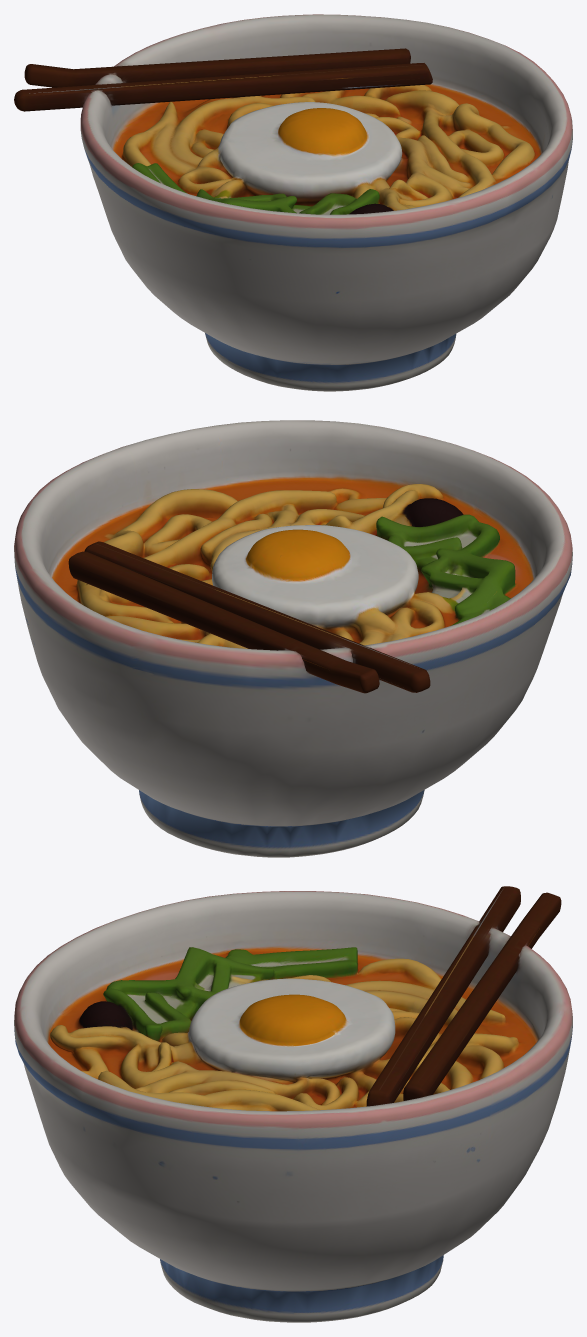
The model's file is ramen.glb.
3 renders of one model, top to bottom at view 1: azimuth 30°, elevation 25°; view 2: azimuth 150°, elevation 25°; view 3: azimuth 270°, elevation 25°, orthographic. The views are drawn at different scales.
Visible parts, largest first — view 1: tripo_node_f7bd5c36-b9ce-483d-ab95-0c008a3bf8da; view 2: tripo_node_f7bd5c36-b9ce-483d-ab95-0c008a3bf8da; view 3: tripo_node_f7bd5c36-b9ce-483d-ab95-0c008a3bf8da.
Boxes of the visible parts, x1,y1,x2,y2 form: tripo_node_f7bd5c36-b9ce-483d-ab95-0c008a3bf8da: (14,14,572,391); tripo_node_f7bd5c36-b9ce-483d-ab95-0c008a3bf8da: (14,420,572,857); tripo_node_f7bd5c36-b9ce-483d-ab95-0c008a3bf8da: (14,886,572,1322).
Size of the model in its own units: 0.9917 by 0.5356 by 0.9995.
Materials: 1 (1 with a texture image).
